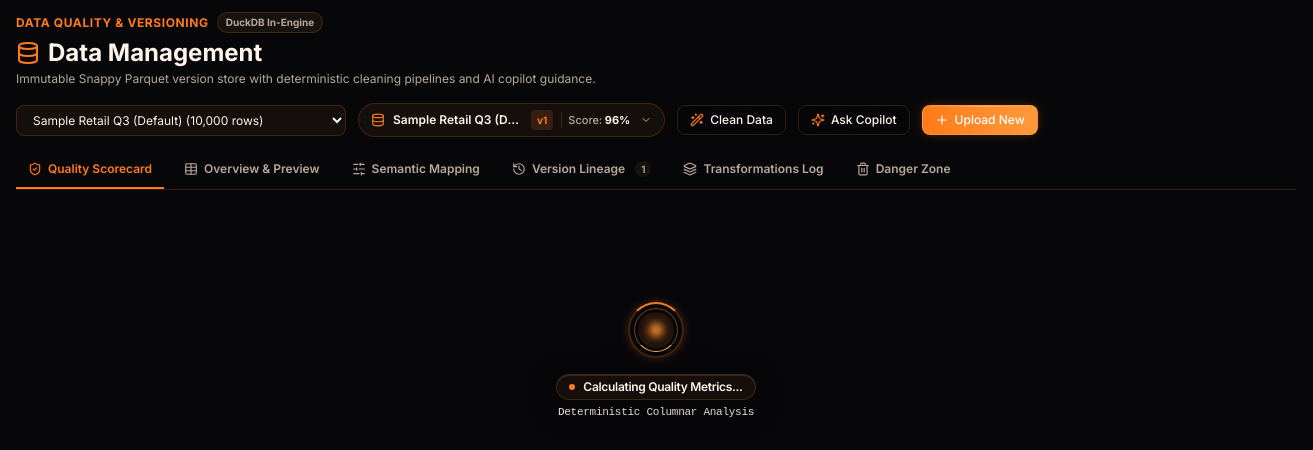
Test: Data Management Page Verification (Phase 6) › switches to Version Lineage tab and displays version snapshot information
Click the button "Version Lineage 1".
click(582, 175)  # box [500, 161, 663, 189]
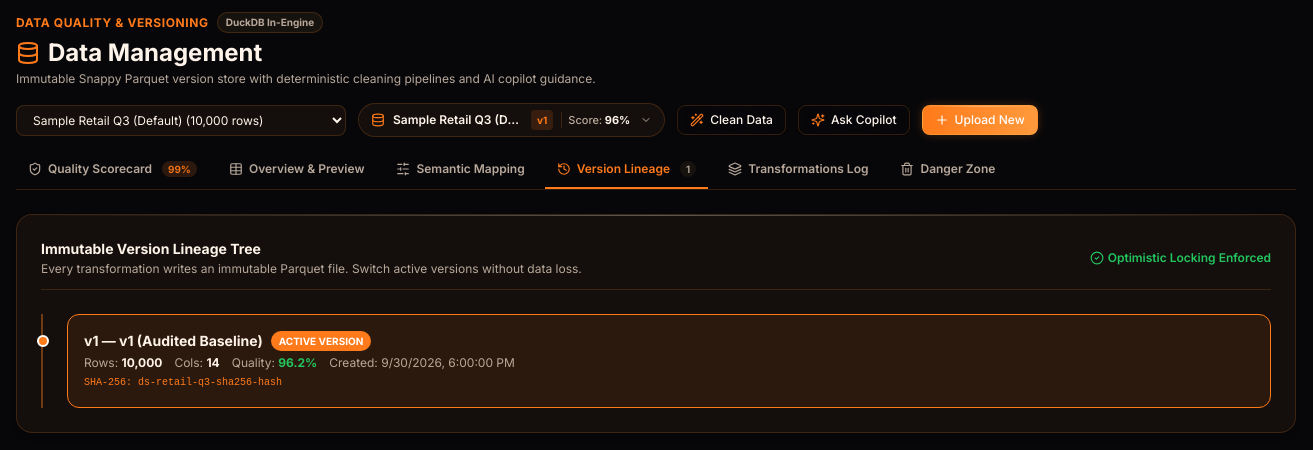
Expected: the heading "Immutable Version Lineage Tree" is shown, [41, 240, 261, 257]
Expected: the text "Optimistic Locking Enforced" is shown, [1090, 250, 1271, 266]
